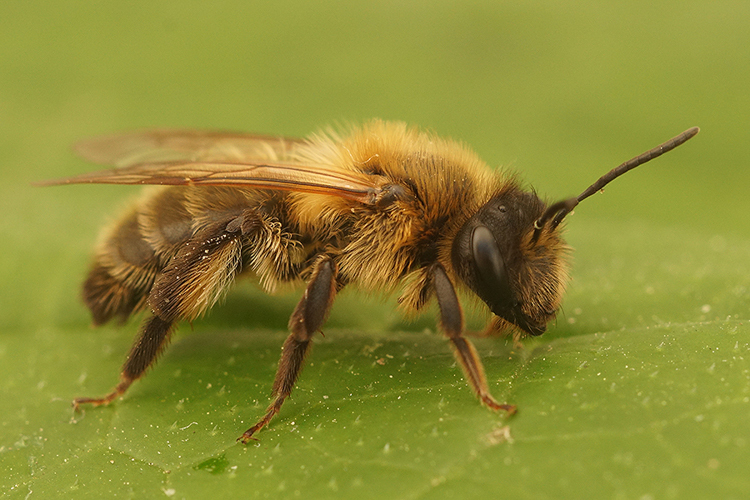not_bumblebee: (28, 115, 704, 449)
